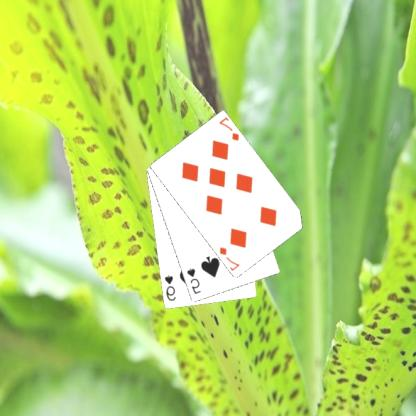5S: (186, 266, 204, 296)
6S: (163, 272, 179, 302)
7D: (218, 115, 243, 143), (218, 245, 243, 272)
